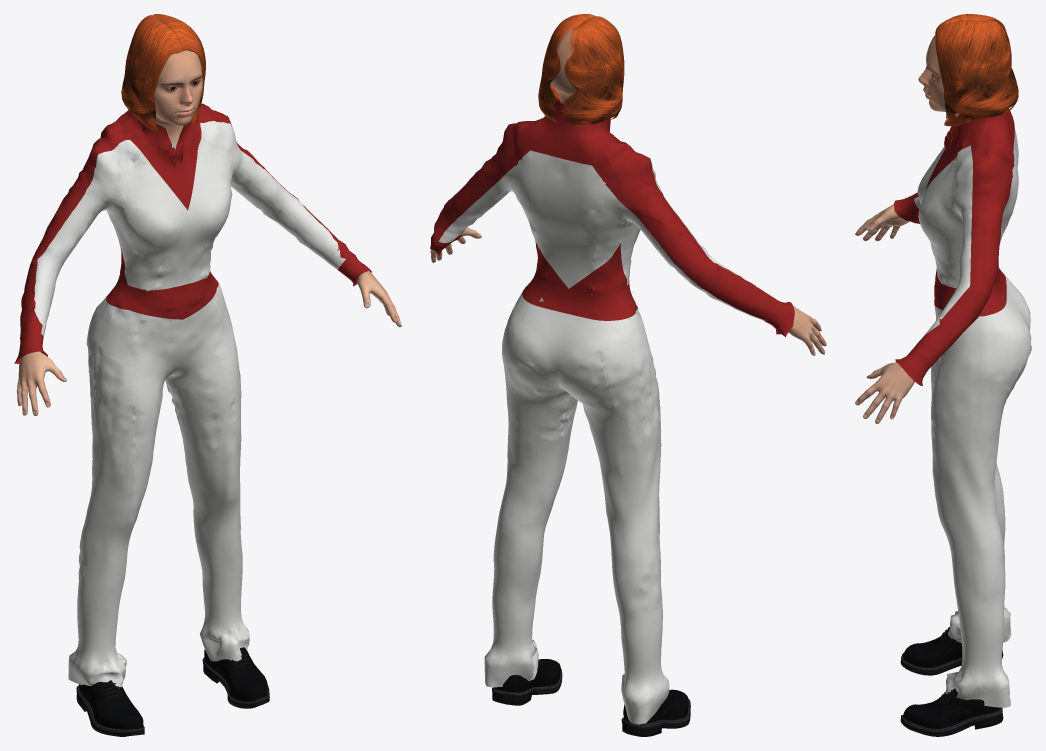
File: astronavigator_suit.glb
The picture shows the model from 3 angles, left to right: view 1: azimuth 30°, elevation 25°; view 2: azimuth 150°, elevation 25°; view 3: azimuth 270°, elevation 25°; orthographic projection. The views are drawn at different scales.
Parts seen in each view (by area): view 1: X_Coverall, X_body, X_shoes03, X_toigo_curled_under_bob; view 2: X_Coverall, X_toigo_curled_under_bob, X_shoes03, X_body; view 3: X_Coverall, X_toigo_curled_under_bob, X_shoes03, X_body.
Boxes of the visible parts, bbox=[...] form: X_Coverall: bbox=[14, 103, 371, 688]; X_body: bbox=[16, 50, 401, 415]; X_shoes03: bbox=[76, 647, 269, 736]; X_toigo_curled_under_bob: bbox=[121, 14, 205, 133]; X_Coverall: bbox=[430, 97, 794, 724]; X_toigo_curled_under_bob: bbox=[538, 14, 624, 126]; X_shoes03: bbox=[492, 659, 690, 736]; X_body: bbox=[430, 28, 826, 355]; X_Coverall: bbox=[894, 108, 1031, 707]; X_toigo_curled_under_bob: bbox=[935, 14, 1018, 126]; X_shoes03: bbox=[900, 627, 1003, 736]; X_body: bbox=[855, 35, 959, 423].
Size of what is drawn, in the model's own units: 1.03 by 1.78 by 0.4188.
8 materials, 6 textured.
